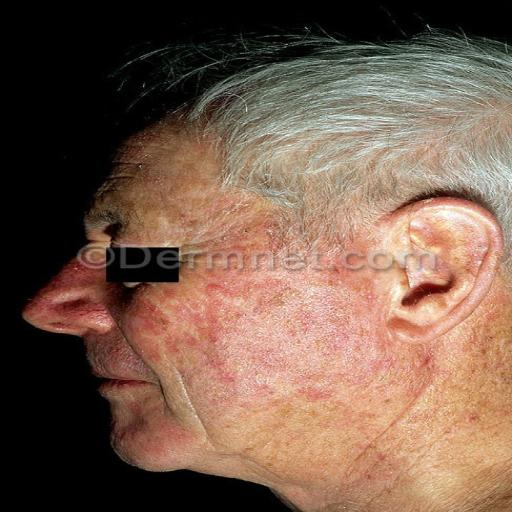Skin_Lesion: (264, 330, 338, 398), (323, 259, 375, 324), (54, 280, 106, 334), (190, 289, 242, 336), (192, 345, 244, 388), (146, 291, 178, 353), (105, 328, 135, 373), (255, 272, 279, 318), (418, 342, 436, 372)
